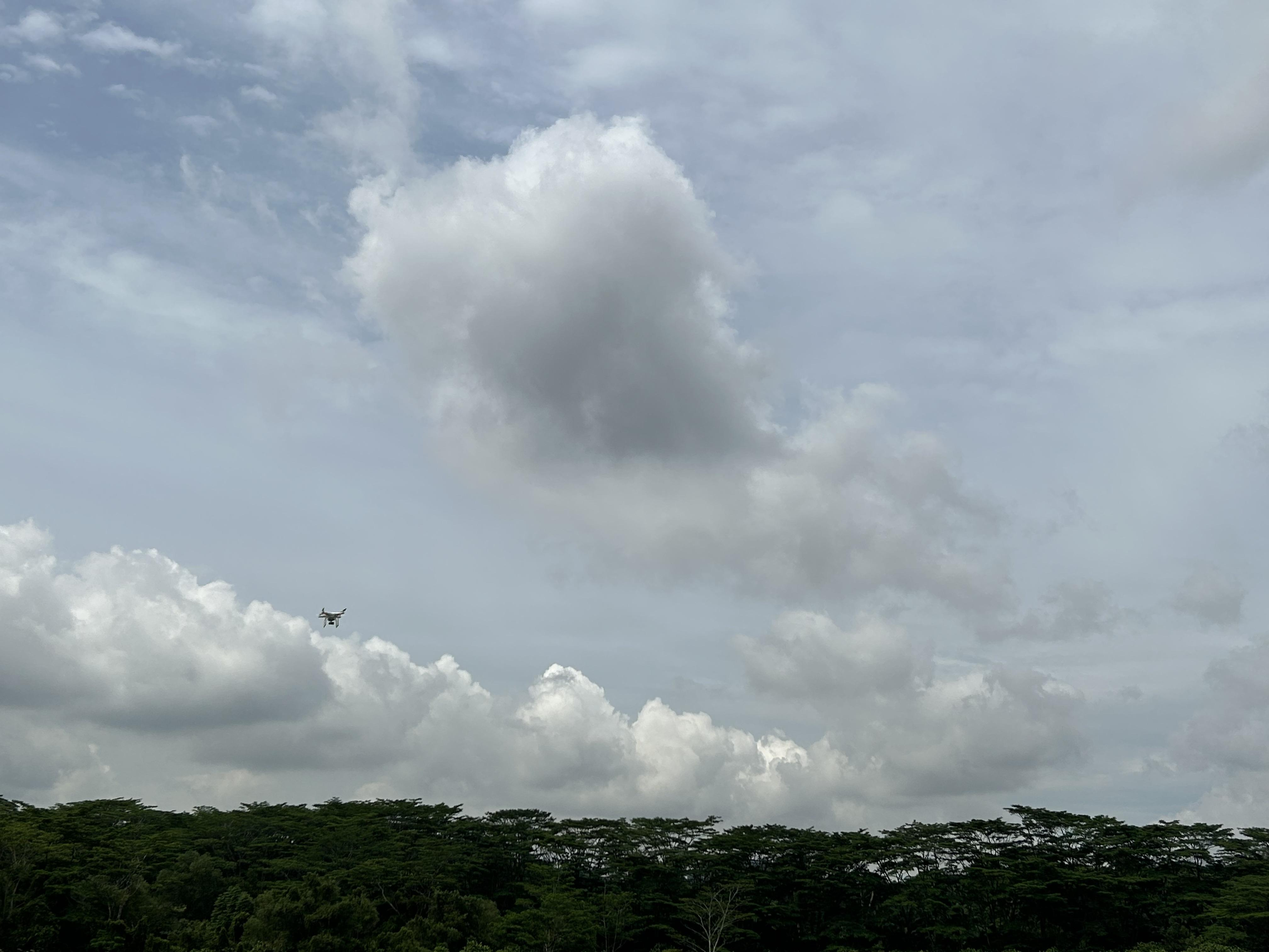drone_other: (317, 607, 347, 629)
